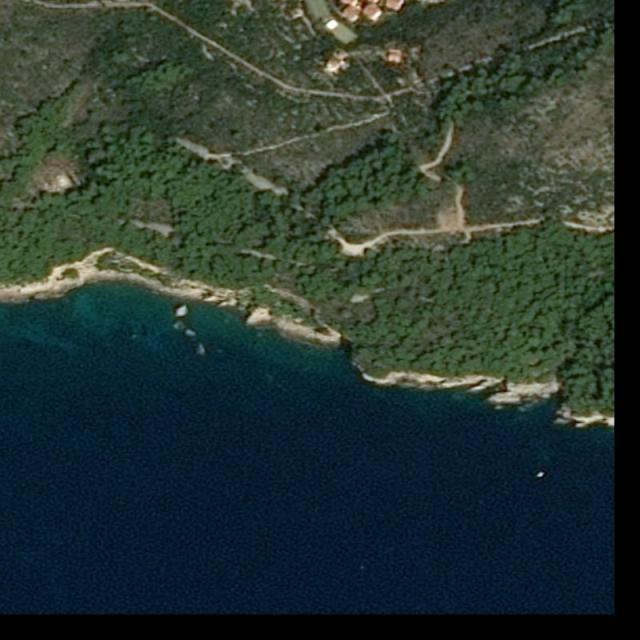ship: (534, 470, 546, 480)
